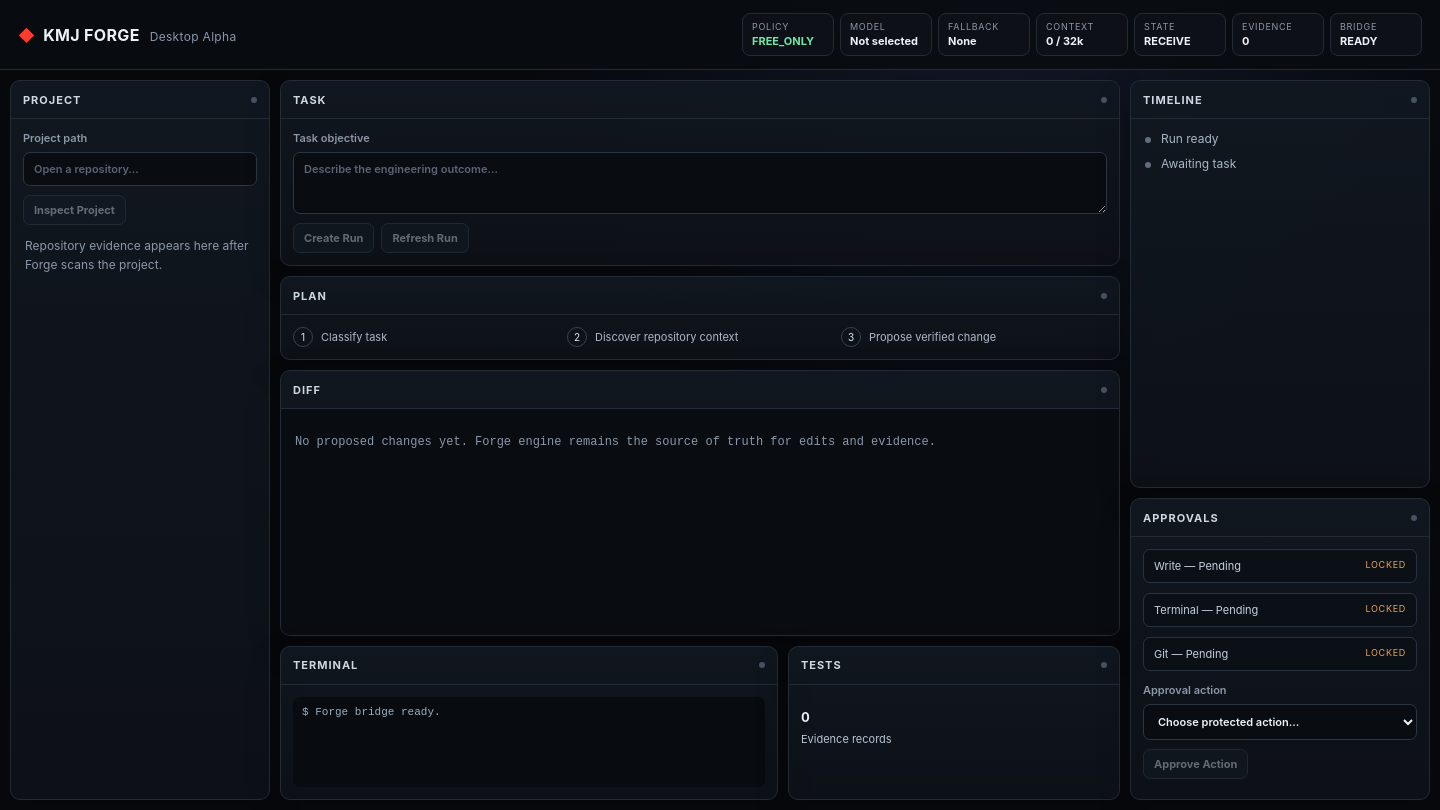
Test case: Forge Desktop Alpha workspace › inspects a repository through the Forge bridge and renders context evidence
This screenshot has width=1440, height=810.
Step 1. Type "/repo" into the field labelled "Project path" → (140, 169), box [23,152,257,186]
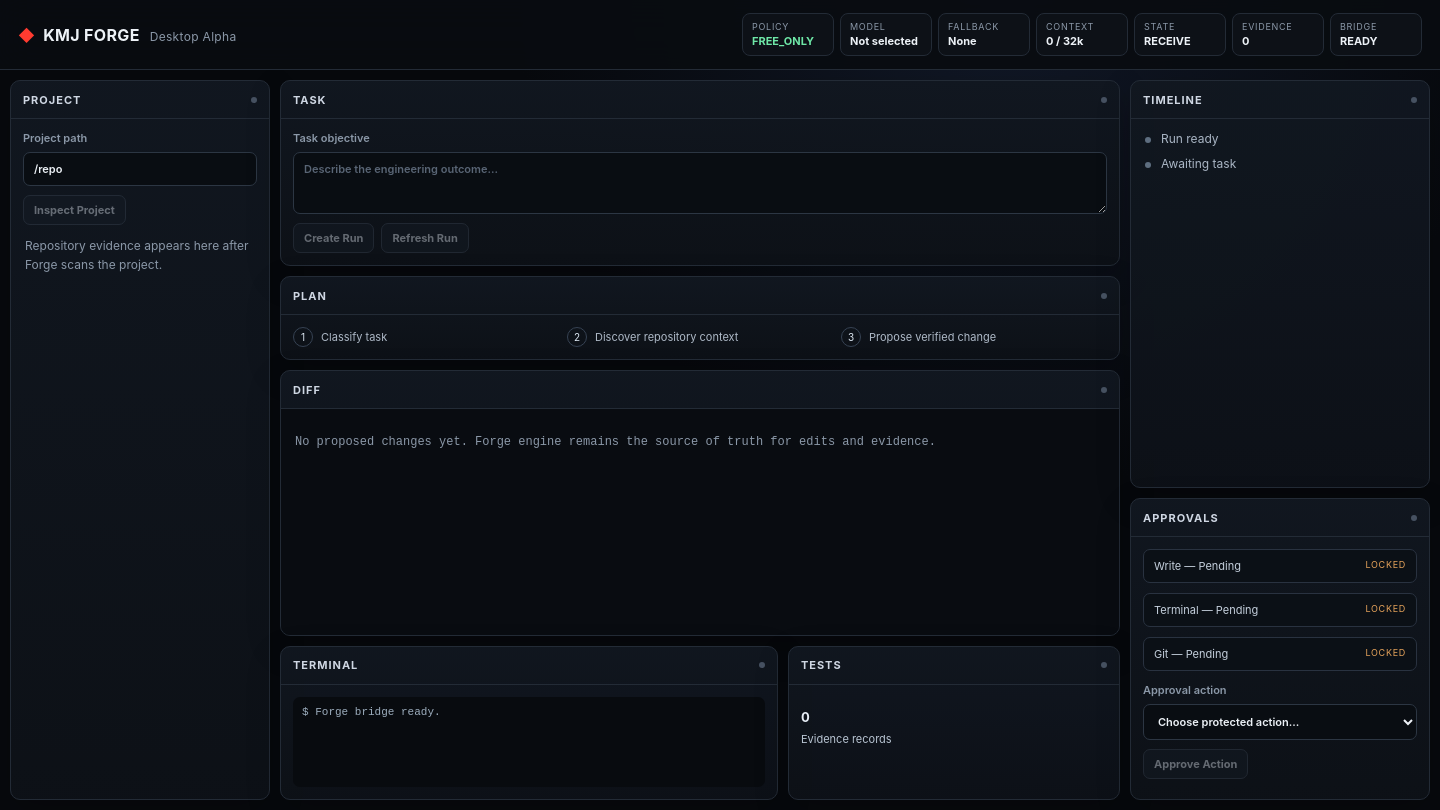
Step 2. Type "Fix repository tests" into the text box labelled "Task objective" → (700, 183), box [293,152,1107,214]
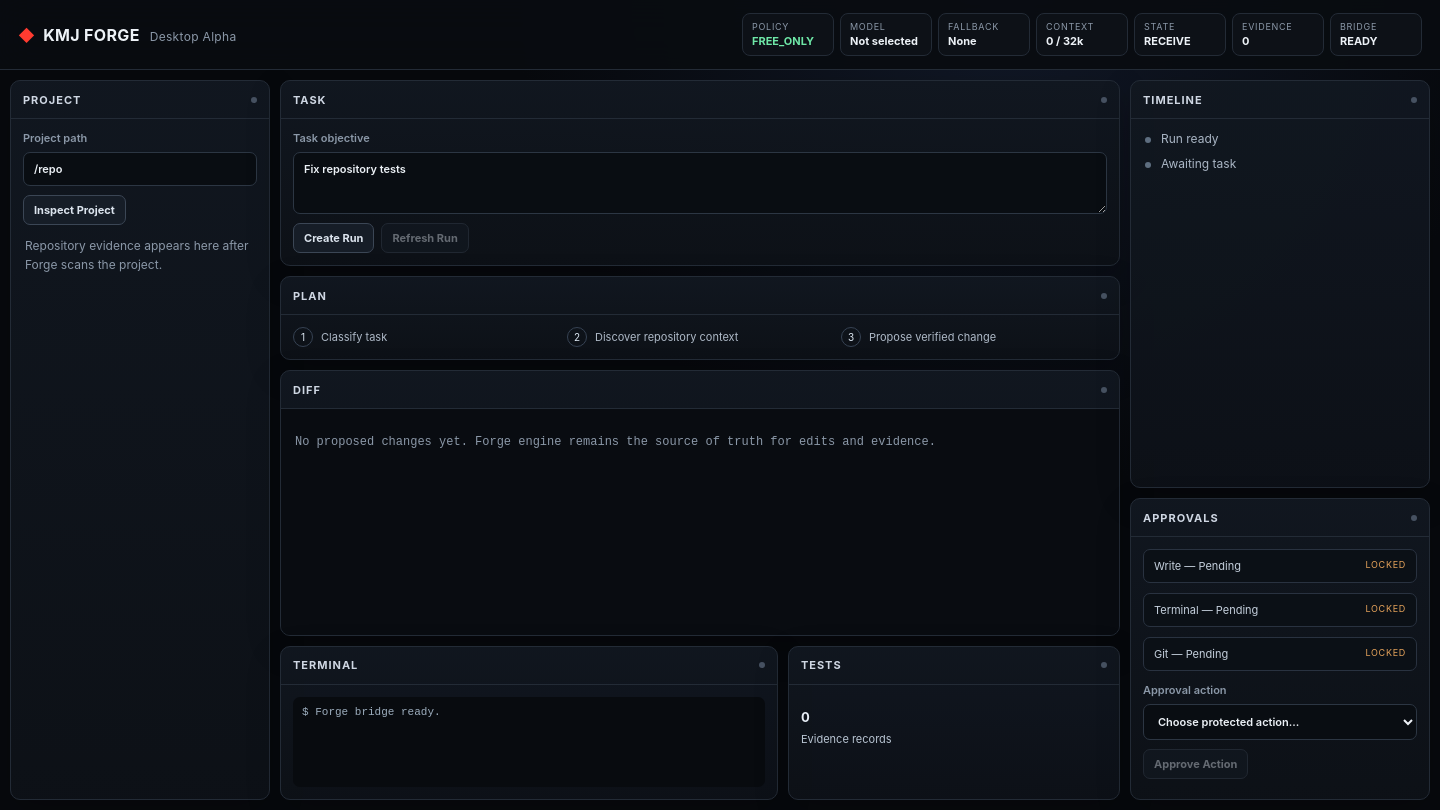
Step 3. Click the button "Inspect Project" → (74, 210), box [23,195,126,225]
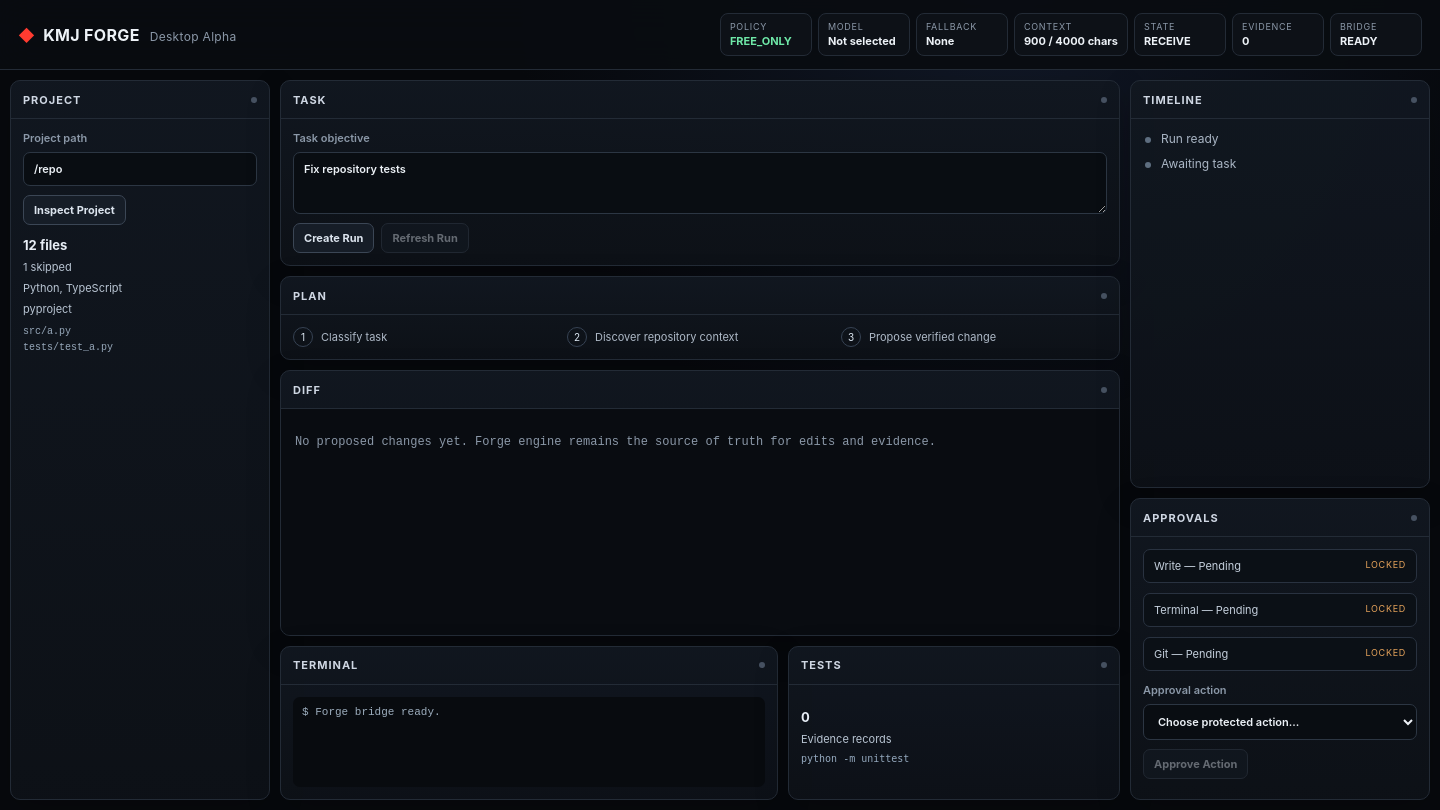
Result: the text "12 files" is shown at [23,237,67,253]
Result: the text "Python, TypeScript" is shown at [23,281,122,295]
Result: the list item "src/a.py" is shown at [23,326,71,337]
